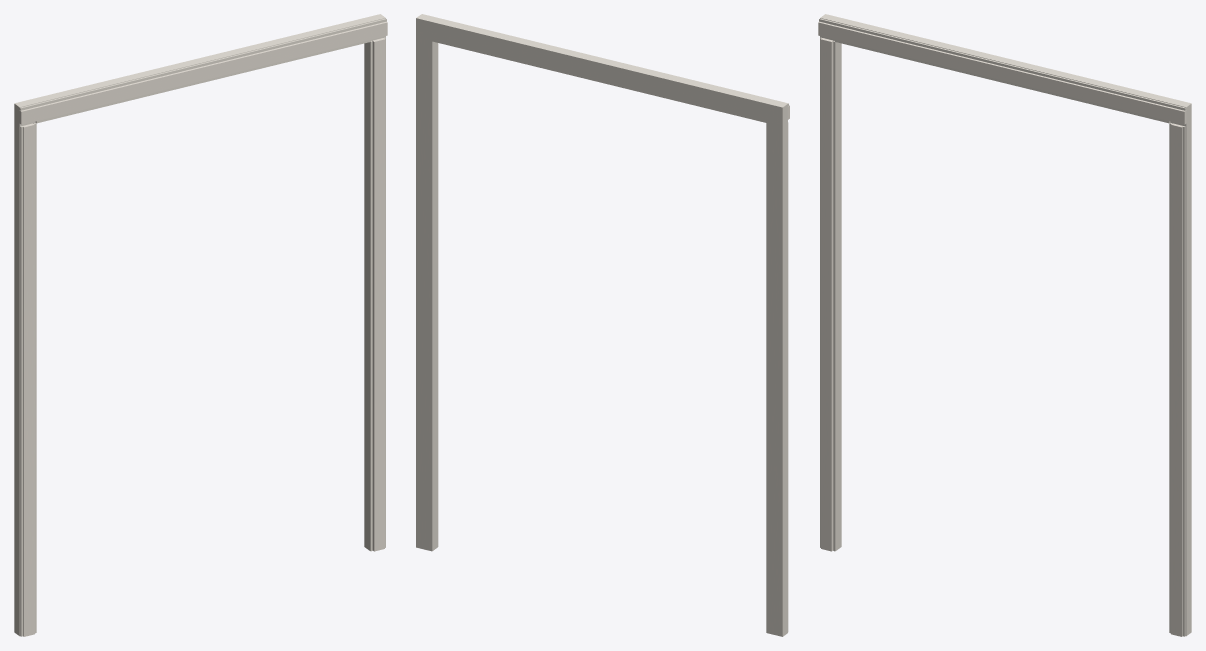
The model's file is door_casing.glb.
The picture shows the model from 3 angles, left to right: view 1: azimuth 30°, elevation 25°; view 2: azimuth 150°, elevation 25°; view 3: azimuth 330°, elevation 25°; orthographic projection.
Parts seen in each view (by area): view 1: home_door_casing; view 2: home_door_casing; view 3: home_door_casing.
Part boxes in pixels (x1,y1,x2,y2): home_door_casing: (14,14,387,636); home_door_casing: (416,14,789,636); home_door_casing: (818,14,1191,636).
Size of the model in its own units: 1.58 by 2.18 by 0.054.
1 material, 1 textured.
